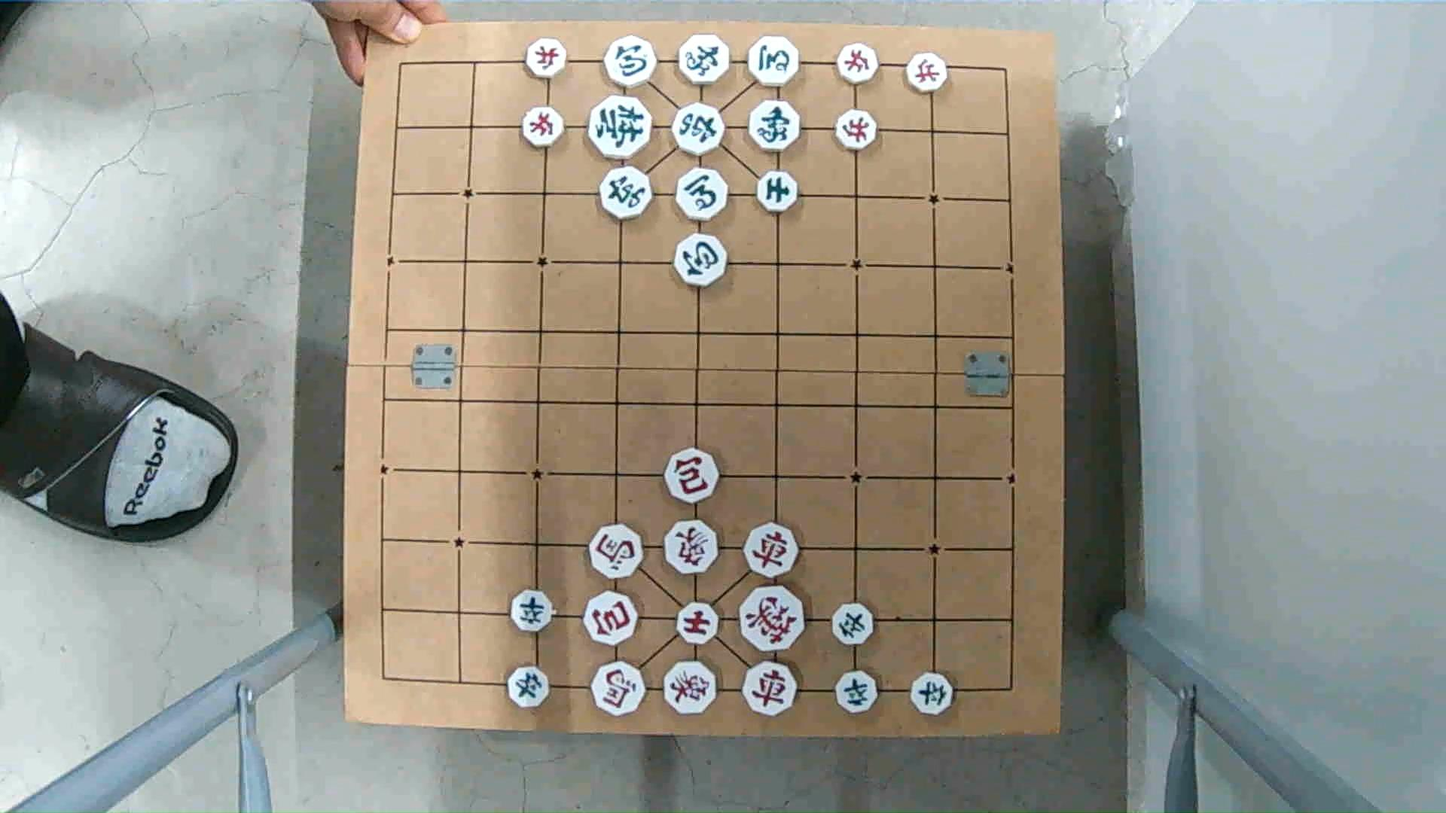cha_green: (600, 170, 653, 221), (671, 106, 726, 155)
cha_red: (743, 660, 801, 716), (743, 525, 801, 576)
jol_green: (831, 600, 874, 645), (834, 670, 879, 712), (508, 590, 554, 629), (508, 667, 549, 708), (912, 674, 952, 715)
jol_red: (832, 109, 879, 151), (520, 108, 568, 148), (525, 40, 569, 78), (904, 53, 947, 90), (835, 44, 878, 81)
ma_green: (746, 38, 804, 86), (675, 172, 729, 221)
ma_red: (589, 525, 645, 577), (593, 665, 648, 717)
po_green: (673, 236, 728, 287), (605, 35, 656, 87)
po_red: (664, 449, 720, 501), (587, 593, 641, 644)
sa_green: (758, 169, 799, 212)
sa_red: (675, 603, 721, 643)
sang_green: (749, 99, 801, 153), (678, 35, 731, 83)
sang_red: (663, 521, 719, 574), (664, 661, 721, 712)
wang_green: (590, 96, 653, 156)
wang_red: (739, 591, 808, 650)
